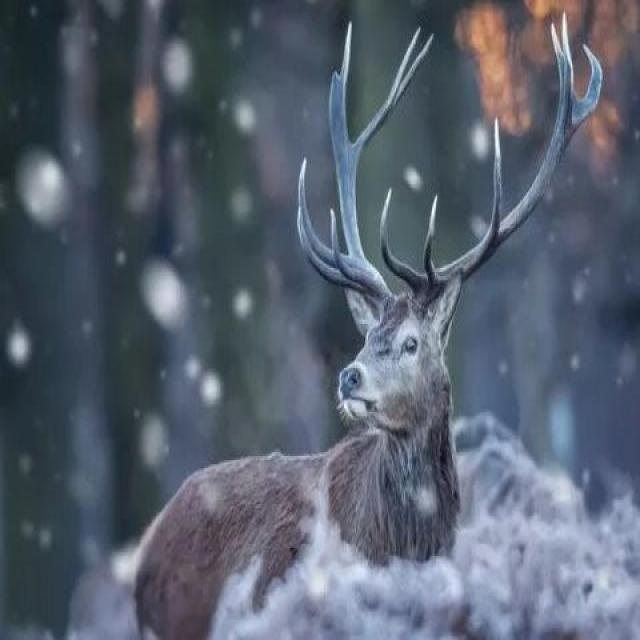deer: (255, 150, 516, 567)
